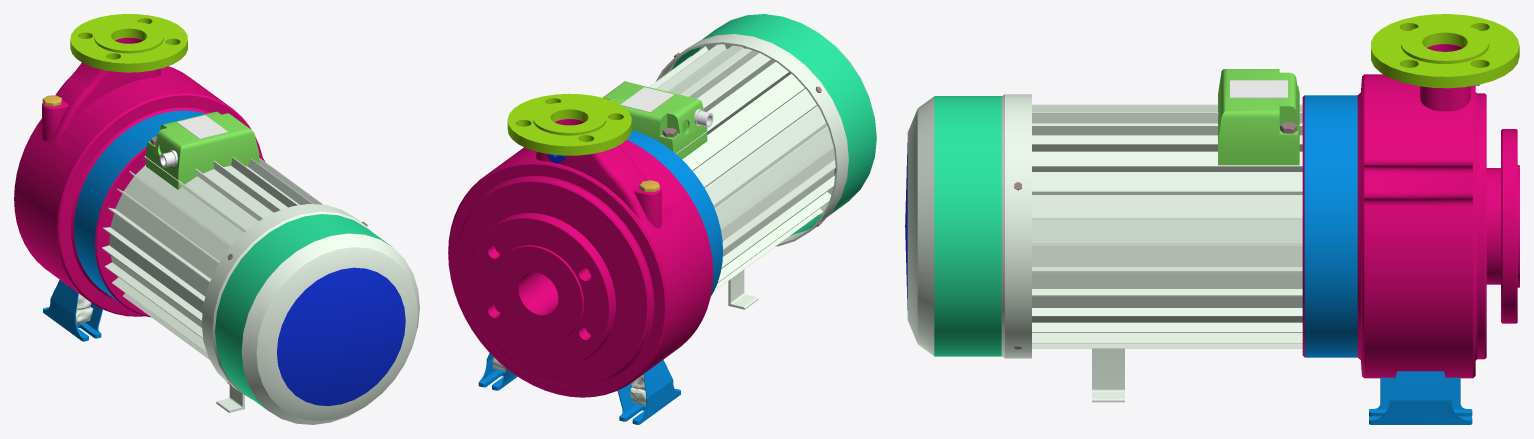
The model's file is Electropompe.gltf.
3 renders of one model, left to right at view 1: azimuth 30°, elevation 25°; view 2: azimuth 150°, elevation 25°; view 3: azimuth 270°, elevation 25°, orthographic. The views are drawn at different scales.
Visible parts, largest first — view 1: Plane; view 2: Plane; view 3: Plane.
Boxes of the visible parts, bbox=[...] form: Plane: bbox=[14, 14, 419, 424]; Plane: bbox=[448, 14, 876, 424]; Plane: bbox=[905, 14, 1519, 424].
Size of the model in its own units: 2.73 by 3.32 by 5.52.
